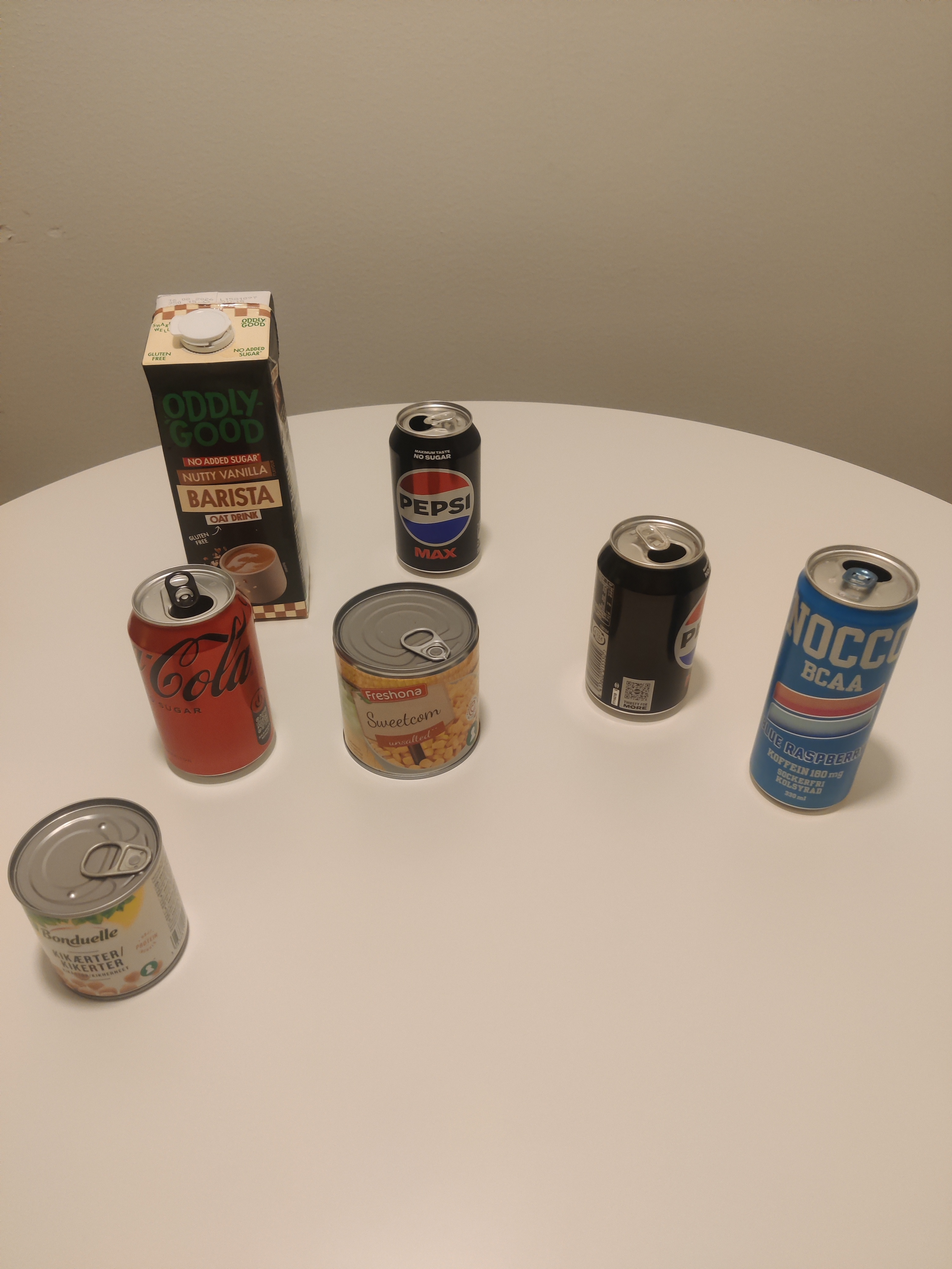Dryckeskartong: (109, 268, 326, 634)
Konservburk: (4, 775, 207, 1017), (331, 579, 499, 788)
Pantburk: (735, 483, 933, 852), (553, 457, 721, 751), (107, 551, 287, 791), (354, 375, 509, 583)
